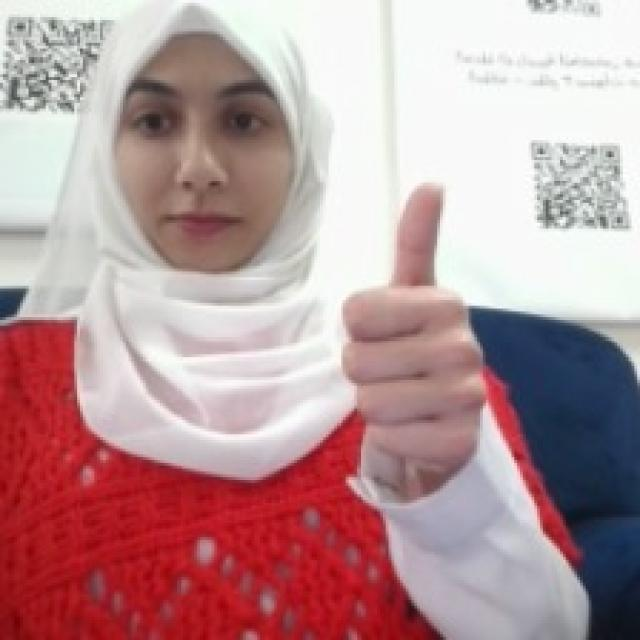fine: (332, 168, 492, 472)
